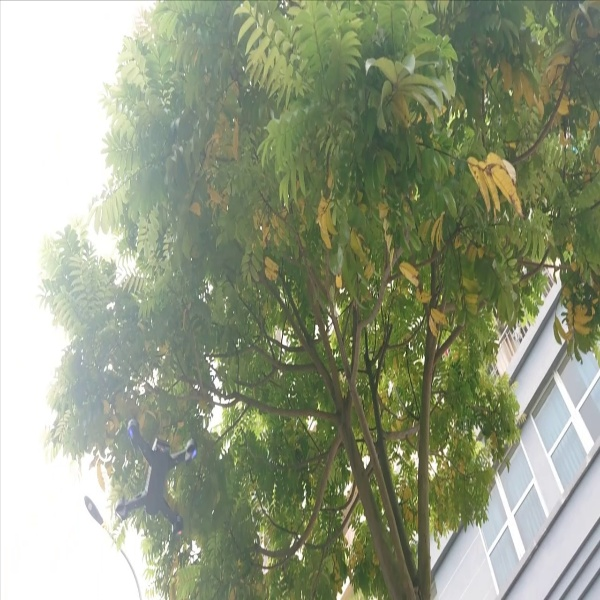drone: (110, 408, 207, 536)
